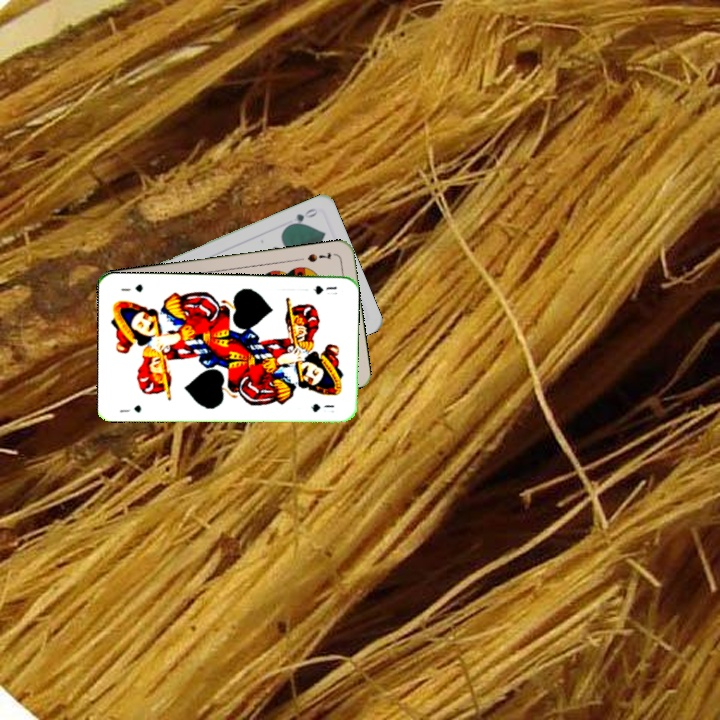GO: (283, 204, 320, 230)
GU: (309, 282, 339, 297), (116, 401, 144, 415)
S7: (303, 248, 333, 264)
